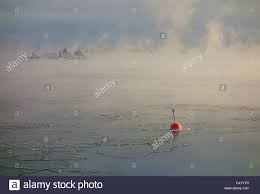buoy: (171, 122, 182, 131)
